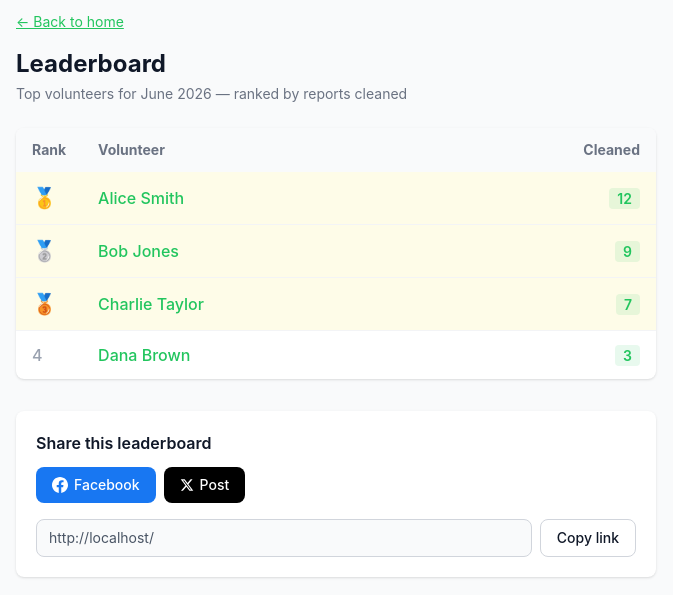
Test case: Leaderboard › shows Copied! after clicking the copy button
Step 1. Click the button "Copy link" → point(588, 538), box x1=540 y1=519 x2=636 y2=557
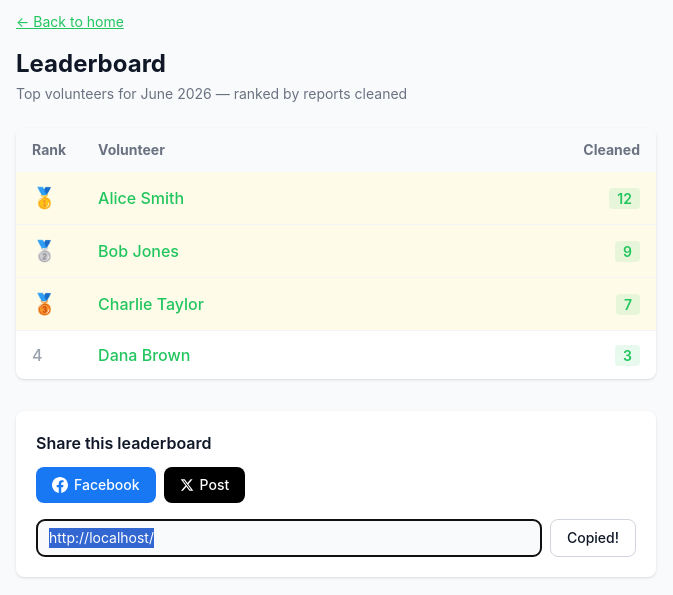
Expected: the button "Copied!" is shown, x1=550 y1=519 x2=636 y2=557
